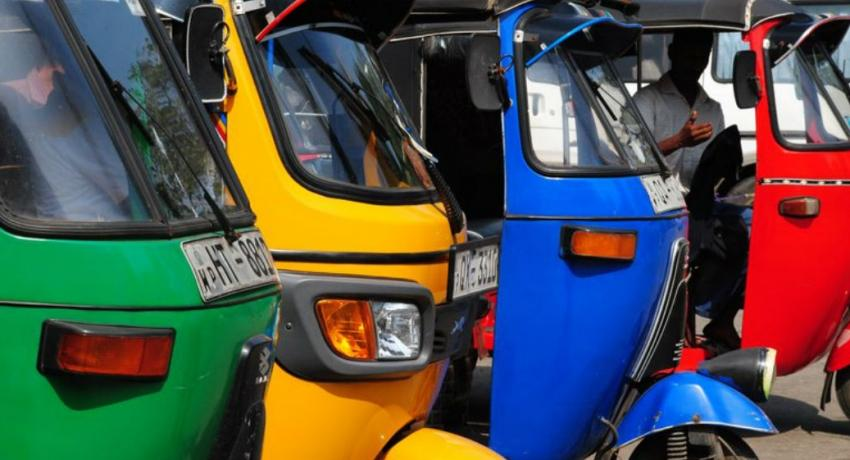threewheel: (380, 1, 777, 460), (152, 1, 504, 460), (1, 1, 281, 460), (627, 1, 850, 418)
